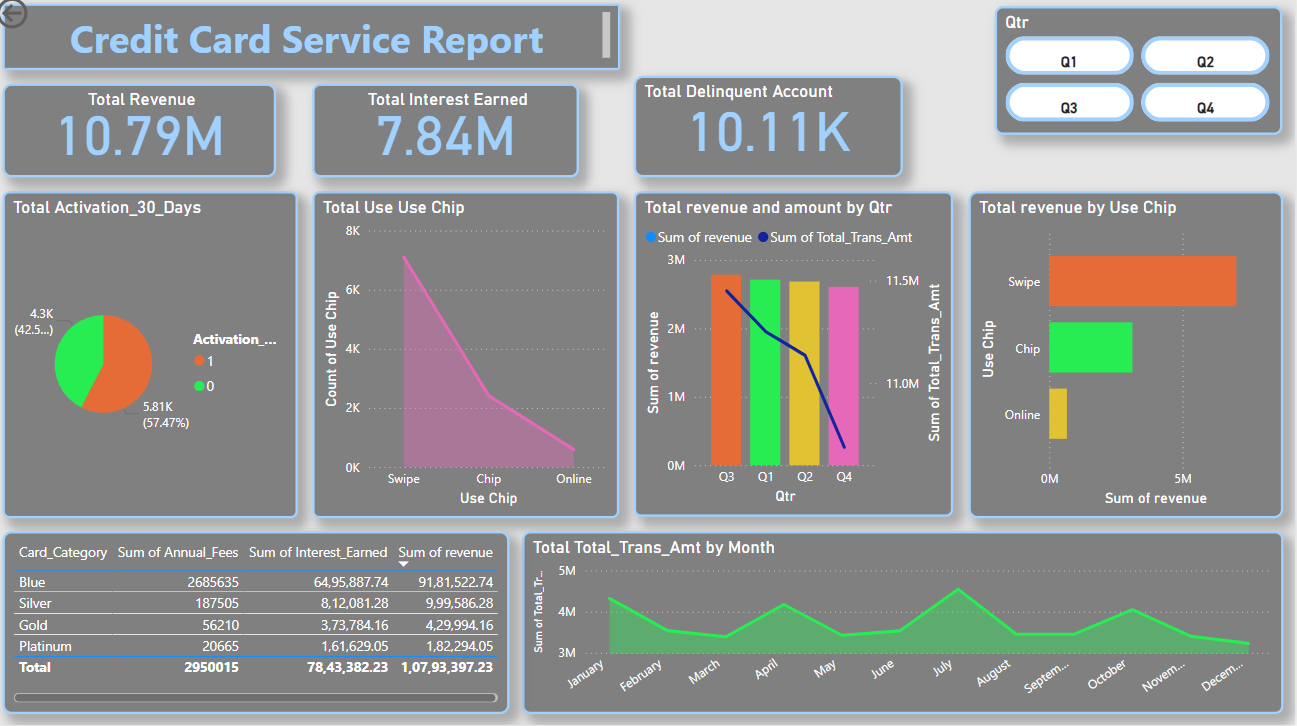

The dashboard page shown, as its layout file describes it:
{"tool":"powerbi","page":{"name":"Page 2","canvas":[1280,720],"ordinal":1},"visuals":[{"type":"textbox","box":[10.4,10.4,606.9,65.4],"z":0},{"type":"pieChart","title":"Total Activation_30_Days ","fields":{"Category":["credit_card.Activation_30_Days"],"Y":["CountNonNull(credit_card.Activation_30_Days)"]},"box":[10.4,194.8,290,321.3],"z":1000},{"type":"areaChart","title":"Total Use Use Chip","fields":{"Category":["credit_card.Use Chip"],"Y":["CountNonNull(credit_card.Use Chip)"]},"box":[315.3,194.8,301.9,321.3],"z":2000},{"type":"lineClusteredColumnComboChart","title":"Total revenue and amount by Qtr","fields":{"Category":["credit_card.Qtr"],"Y":["Sum(credit_card.revenue)"],"Y2":["Sum(credit_card.Total_Trans_Amt)"]},"box":[630.7,194.8,313.8,319.8],"z":3000},{"type":"clusteredBarChart","title":"Total revenue by Use Chip","fields":{"Category":["credit_card.Use Chip"],"Y":["Sum(credit_card.revenue)"]},"box":[959.4,194.8,309.4,321.3],"z":4000},{"type":"areaChart","title":"Total Total_Trans_Amt by Month","fields":{"Y":["Sum(credit_card.Total_Trans_Amt)"],"Category":["credit_card.Week_Start_Date.Variation.Date Hierarchy.Month"]},"box":[520.6,529.5,748.2,180],"z":5000},{"type":"tableEx","fields":{"Values":["credit_card.Card_Category","Sum(credit_card.Annual_Fees)","Sum(credit_card.Interest_Earned)","Sum(credit_card.revenue)"]},"box":[10.4,529.5,498.3,180],"z":6000},{"type":"actionButton","box":[0,0,100,40],"z":7000},{"type":"advancedSlicerVisual","fields":{"Values":["credit_card.Qtr"]},"box":[986.1,13.4,282.6,126.4],"z":8000},{"type":"card","title":"Total Delinquent Account","fields":{"Values":["CountNonNull(credit_card.Delinquent_Acc)"]},"box":[630.7,81.8,264.8,99.7],"z":9000},{"type":"card","title":"Total Revenue","fields":{"Values":["Sum(credit_card.revenue)"]},"box":[10.4,89.2,269.2,92.2],"z":10000},{"type":"card","title":"Total Interest Earned","fields":{"Values":["Sum(credit_card.Interest_Earned)"]},"box":[315.3,89.2,261.8,92.2],"z":11000}]}

Visuals, with their boxes in screenshot pixels (x1, y1, x2, y2), scaled from the page's 1280x720 canvas onto the 1297x726 screenshot:
textbox: 11:10:625:76
"Total Activation_30_Days " pieChart: 11:196:304:520
"Total Use Use Chip" areaChart: 319:196:625:520
"Total revenue and amount by Qtr" lineClusteredColumnComboChart: 639:196:957:519
"Total revenue by Use Chip" clusteredBarChart: 972:196:1286:520
"Total Total_Trans_Amt by Month" areaChart: 528:534:1286:715
tableEx - credit_card.Card_Category x Sum(credit_card.Annual_Fees): 11:534:515:715
actionButton: 0:0:101:40
advancedSlicerVisual - credit_card.Qtr: 999:14:1286:141
"Total Delinquent Account" card: 639:82:907:183
"Total Revenue" card: 11:90:283:183
"Total Interest Earned" card: 319:90:585:183
